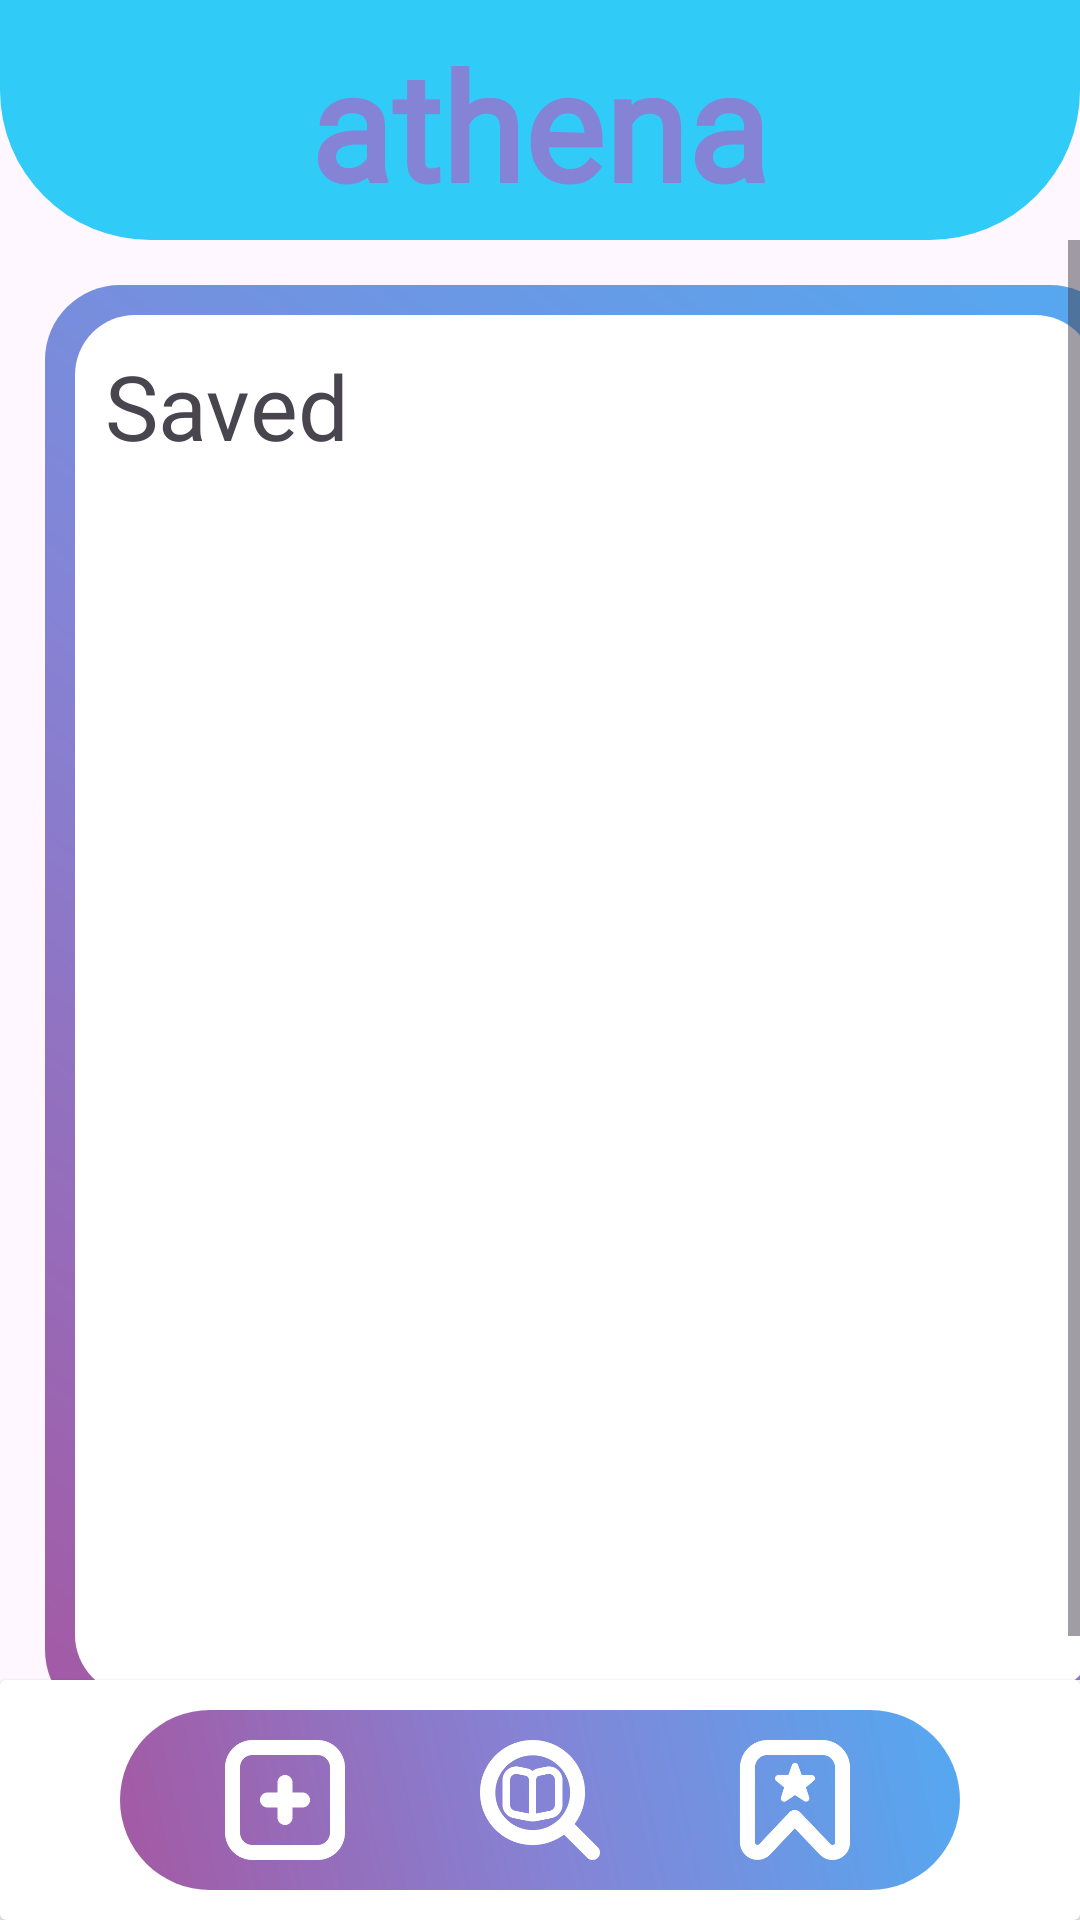

Where to tap for icons on this 1080px×1920px app screen, as point (x, y):
home search: point (540, 1800)
